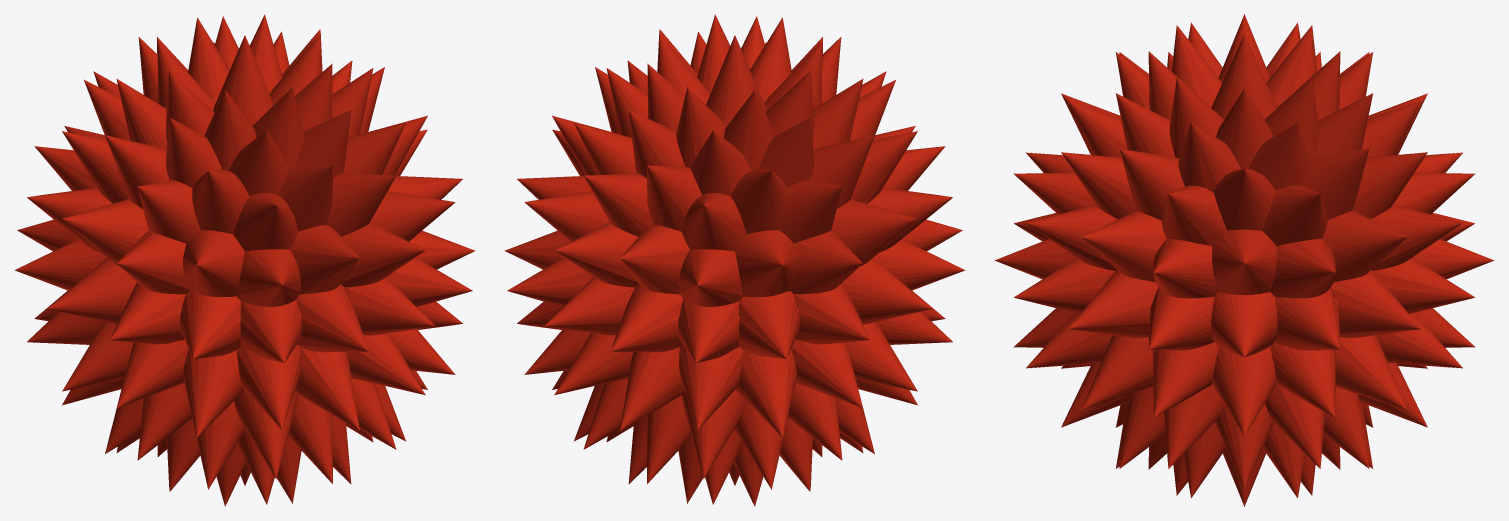
File: add-visual-ball.glb
3 views of the same model, side by side, from view 1: azimuth 30°, elevation 25°; view 2: azimuth 150°, elevation 25°; view 3: azimuth 270°, elevation 25° (orthographic).
Visible parts, largest first — view 1: Object_8.001; view 2: Object_8.001; view 3: Object_8.001.
Part boxes in pixels (left/top/right/bottom): Object_8.001: left=14, top=14, right=475, bottom=506; Object_8.001: left=504, top=14, right=965, bottom=506; Object_8.001: left=994, top=14, right=1494, bottom=506.
Bounding box in the file's own units: 2.93 × 3.19 × 3.19.
